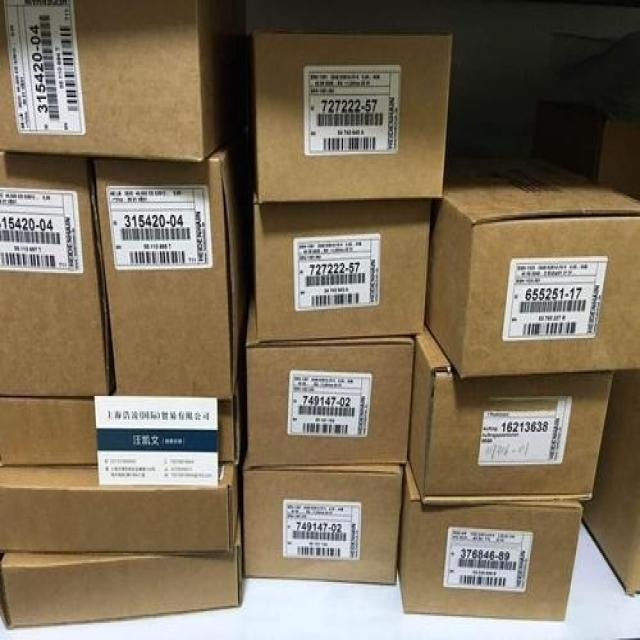Carton: (243, 195, 639, 618), (4, 473, 398, 630), (92, 164, 233, 403), (0, 0, 201, 160), (256, 31, 443, 200), (0, 159, 106, 403), (253, 200, 428, 338), (3, 483, 230, 550)
